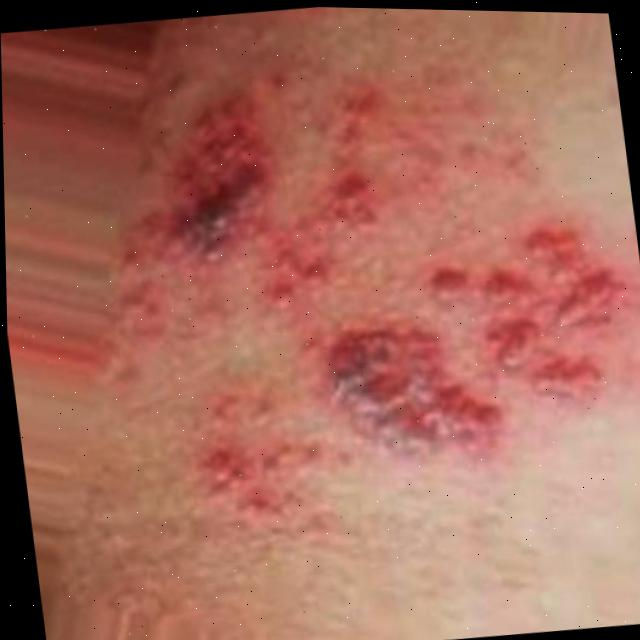Shingles: (91, 36, 640, 541)
